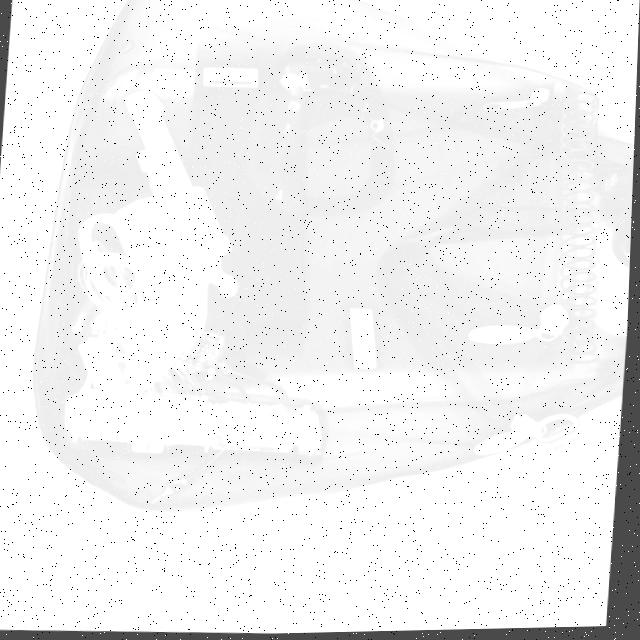pistol: (66, 85, 254, 412)
